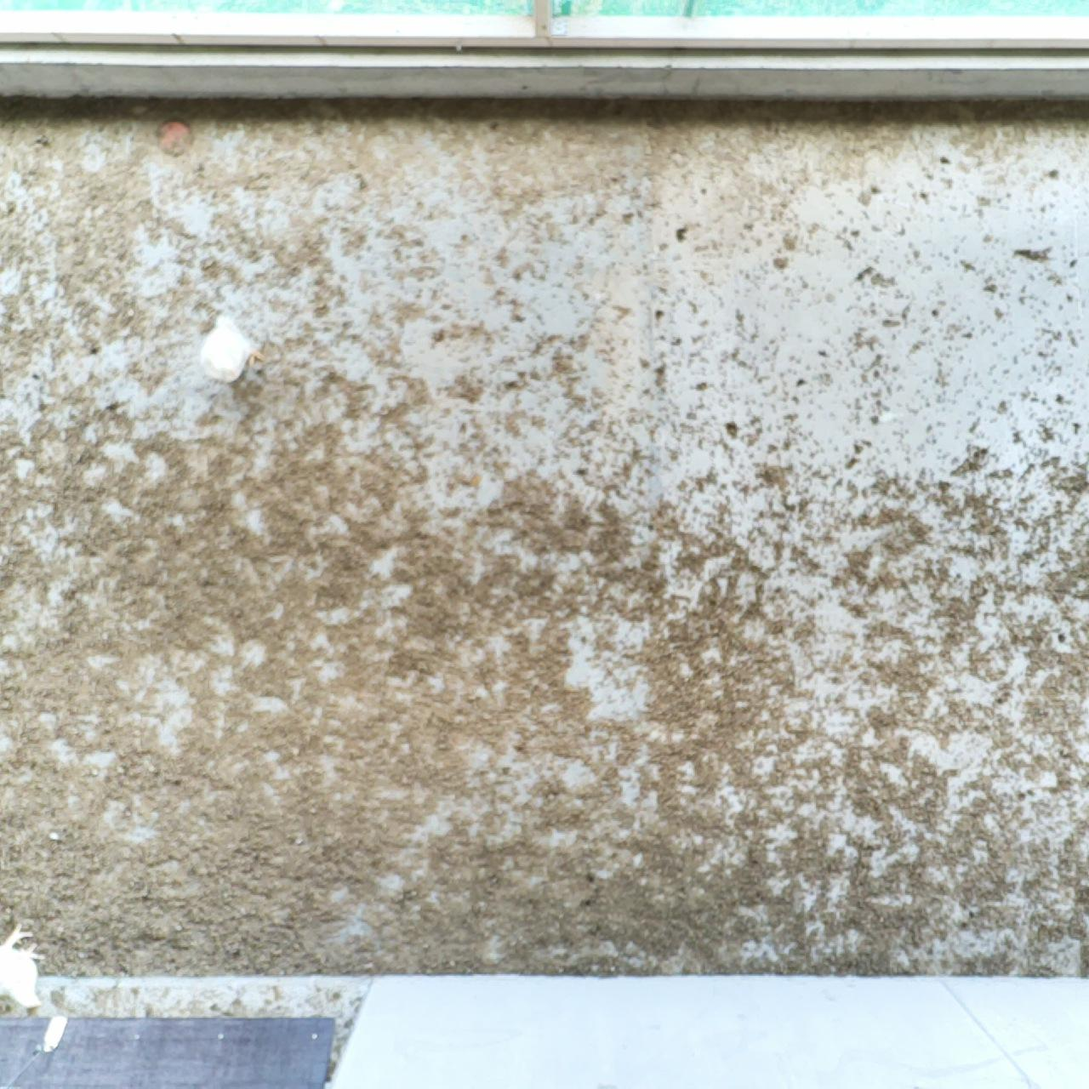chicken: (195, 310, 267, 392), (0, 920, 54, 1011)
